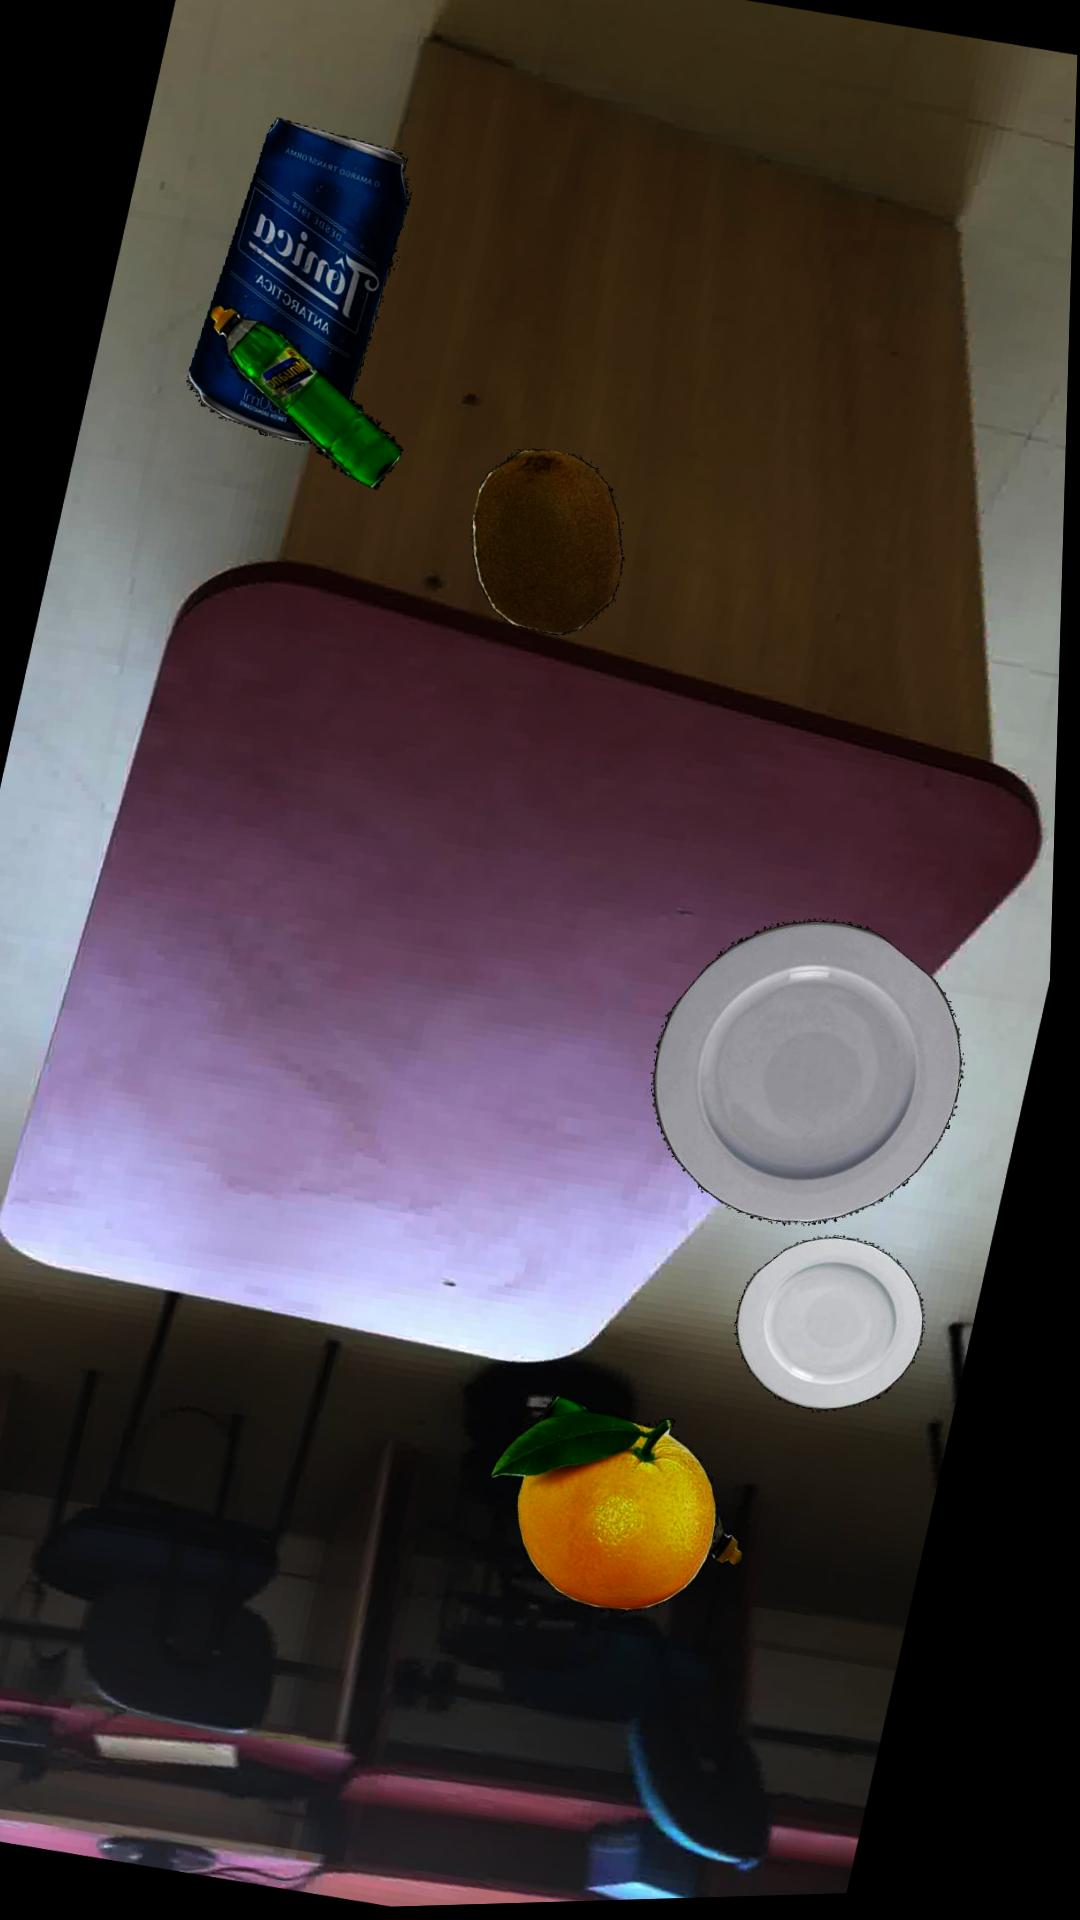cleaner: (207, 307, 404, 493), (547, 1400, 752, 1573)
kiwi: (473, 454, 626, 640)
orange: (497, 1416, 725, 1618)
plate: (657, 927, 967, 1230), (741, 1244, 931, 1418)
tonic: (189, 121, 409, 447)
